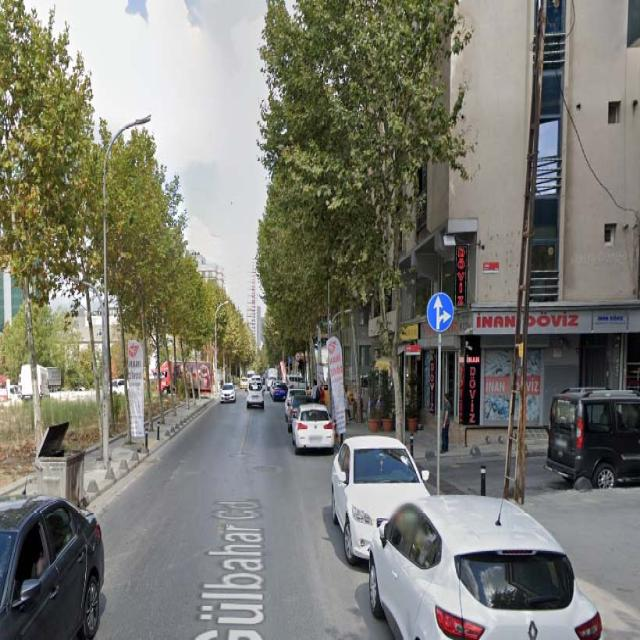ilerisag: (427, 291, 453, 333)
